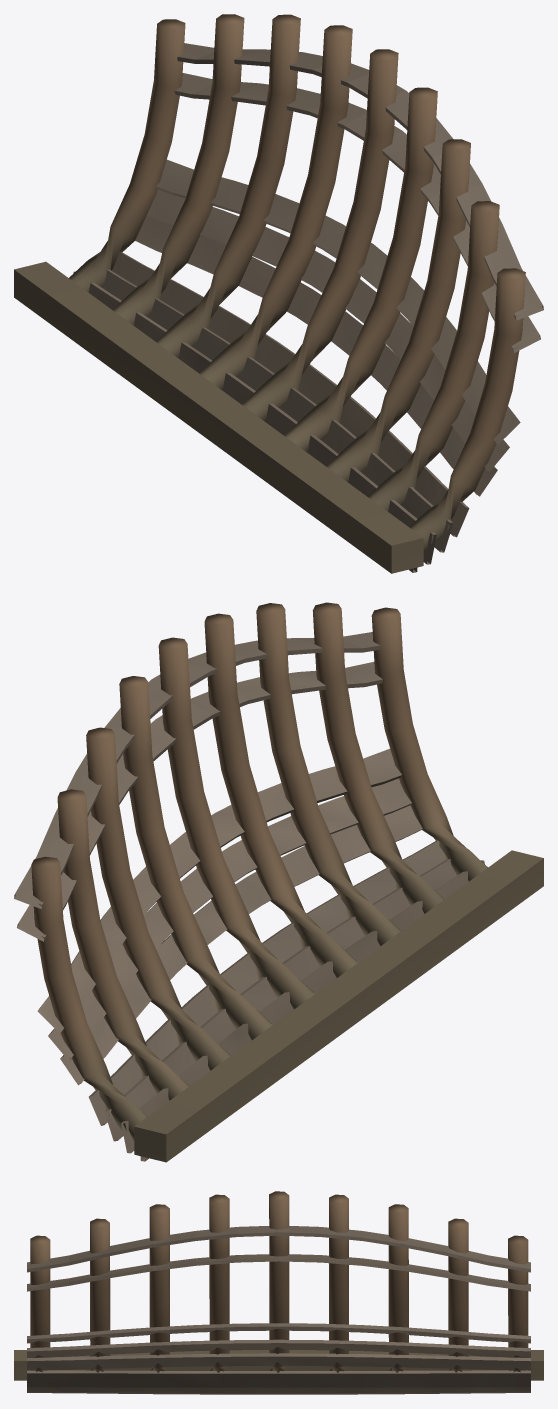
The model's file is Ship_Hull_Half.glb.
3 views of the same model, one above another, from view 1: azimuth 30°, elevation 25°; view 2: azimuth 150°, elevation 25°; view 3: azimuth 270°, elevation 25° (orthographic). The views are drawn at different scales.
Visible parts, largest first — view 1: Ship_Hull_Half; view 2: Ship_Hull_Half; view 3: Ship_Hull_Half.
Boxes of the visible parts, x1,y1,x2,y2 form: Ship_Hull_Half: [14, 14, 543, 573]; Ship_Hull_Half: [14, 602, 543, 1162]; Ship_Hull_Half: [14, 1191, 543, 1394].
Bounding box in the file's own units: 3.81 × 6.26 × 12.2.
